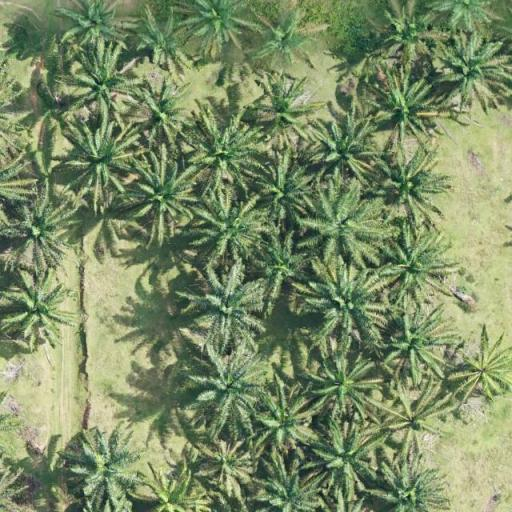Ganoderma: (462, 349, 505, 392)
